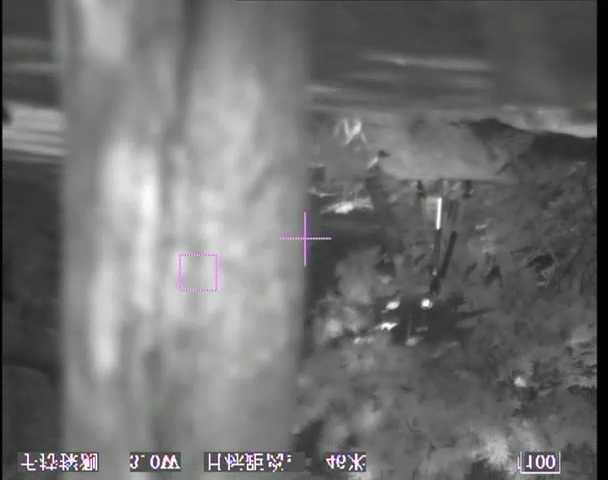my: (420, 299, 430, 309)
